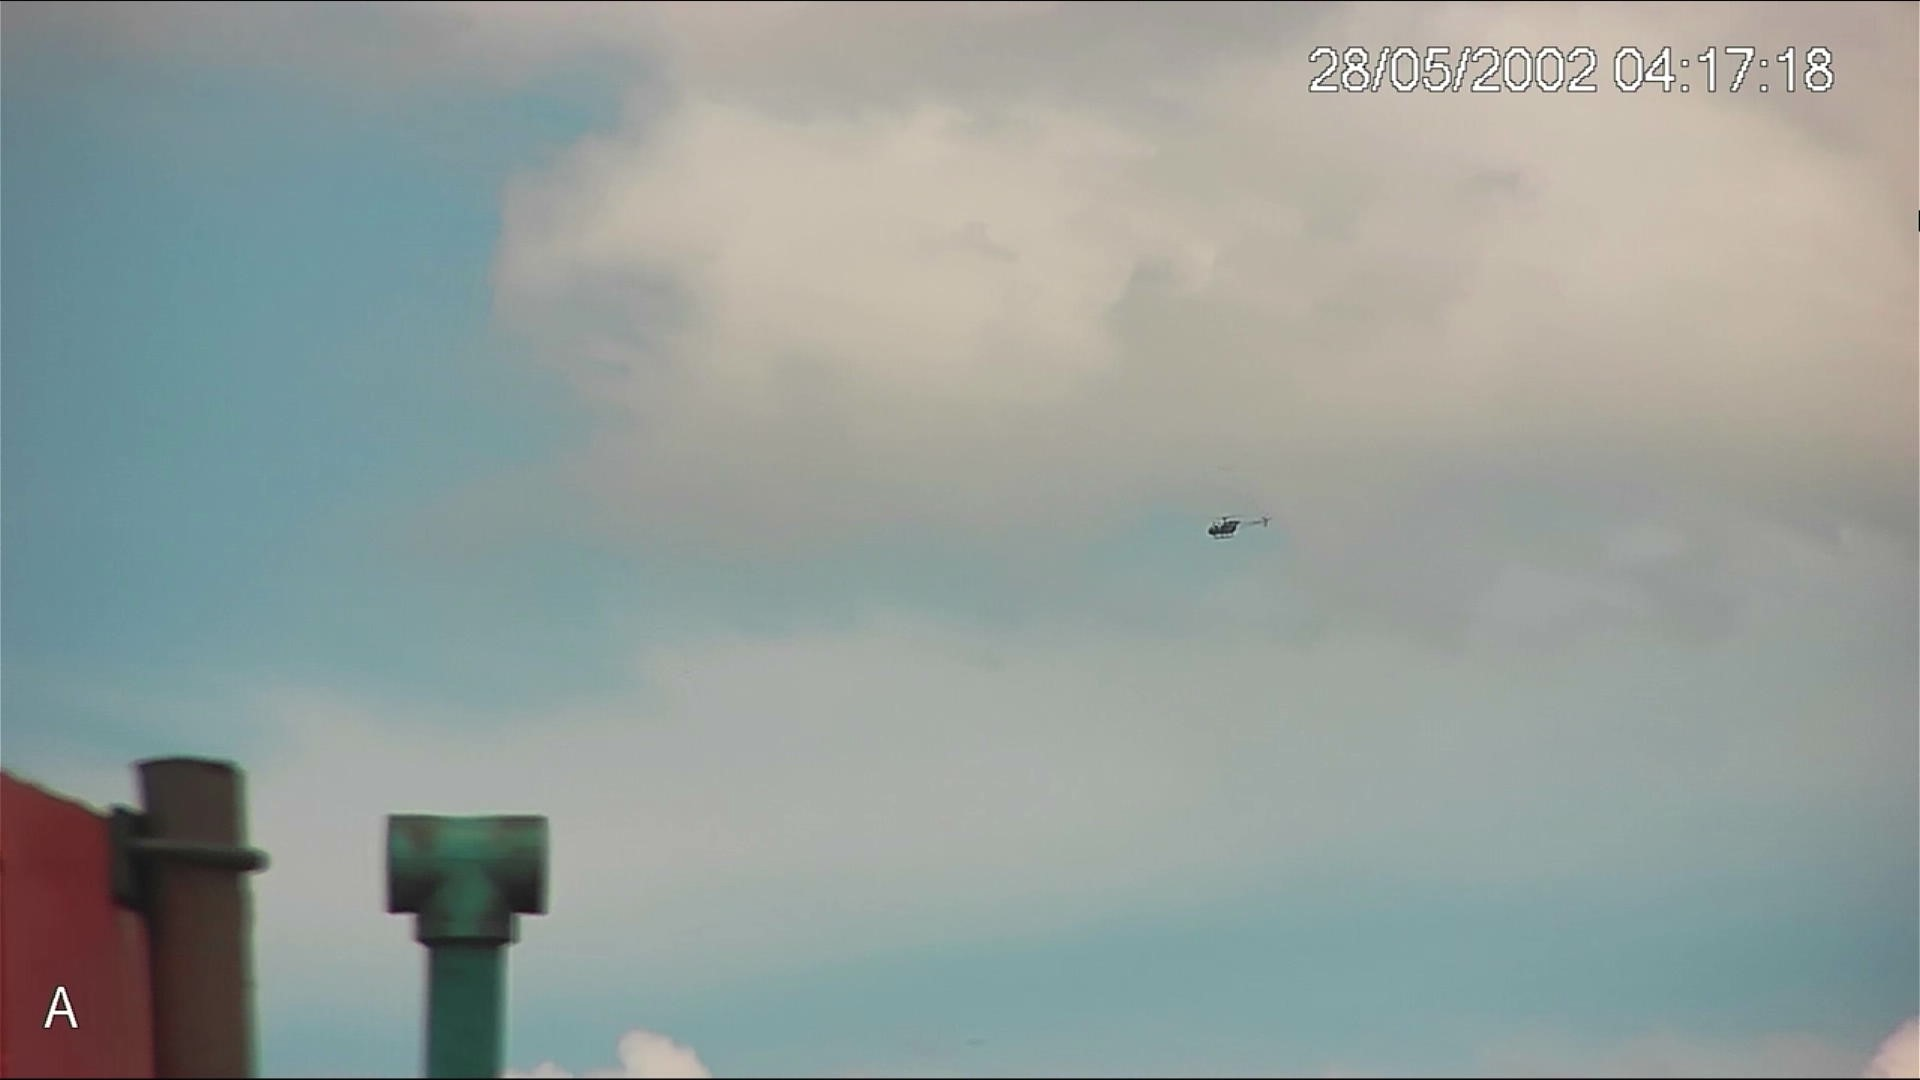SU_30: (1205, 514, 1273, 542)
